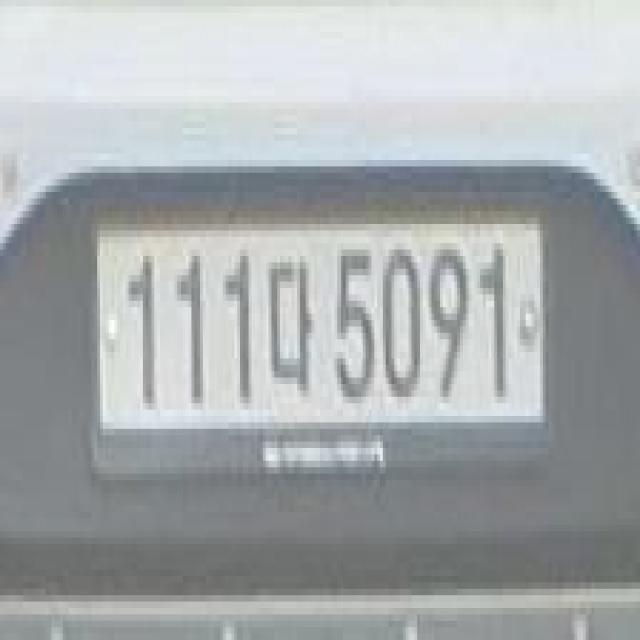illegal_plate: (90, 191, 549, 489)
